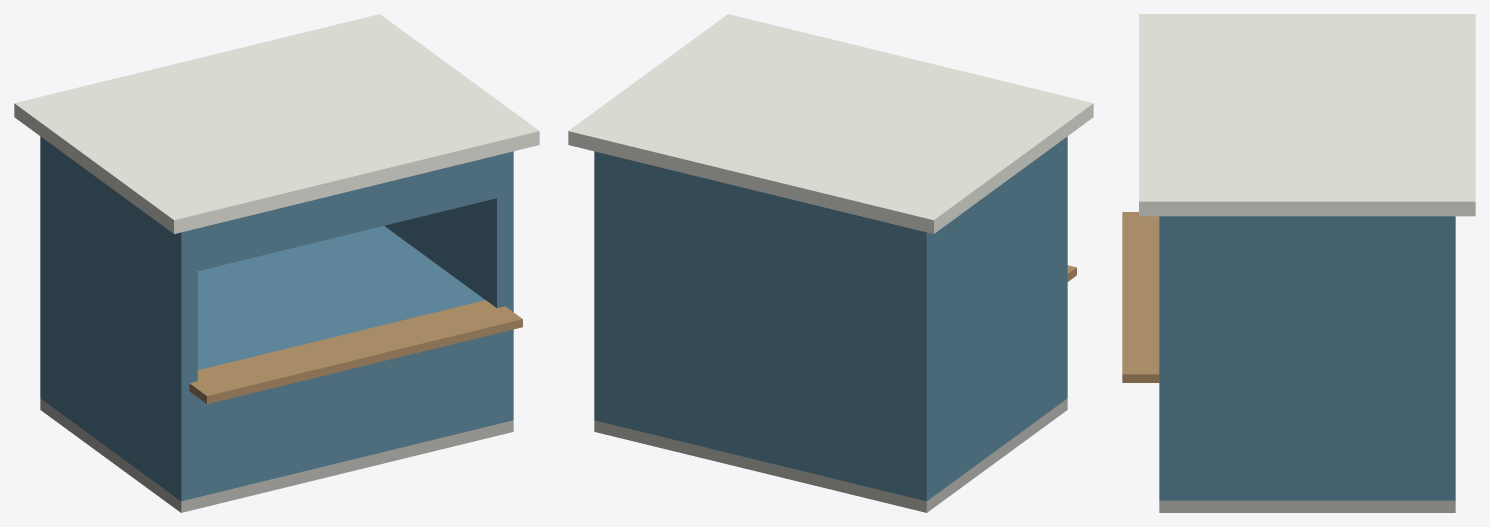
The model's file is football-soccer-club-grounds-concession-kiosk-fc162fe3.glb.
The picture shows the model from 3 angles, left to right: view 1: azimuth 30°, elevation 25°; view 2: azimuth 150°, elevation 25°; view 3: azimuth 270°, elevation 25°; orthographic projection. The views are drawn at different scales.
Parts seen in each view (by area): view 1: concession-kiosk; view 2: concession-kiosk; view 3: concession-kiosk.
Part boxes in pixels (box(x1,y1,x2,y2)): concession-kiosk: box(14, 14, 539, 512); concession-kiosk: box(568, 14, 1093, 512); concession-kiosk: box(1122, 14, 1475, 512).
Size of the model in its own units: 3.3 by 2.62 by 2.62.
